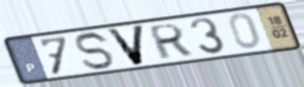0: (227, 11, 265, 52)
3: (189, 17, 227, 56)
7: (37, 34, 70, 76)
R: (148, 21, 194, 62)
S: (74, 31, 117, 72)
V: (104, 23, 147, 67)
